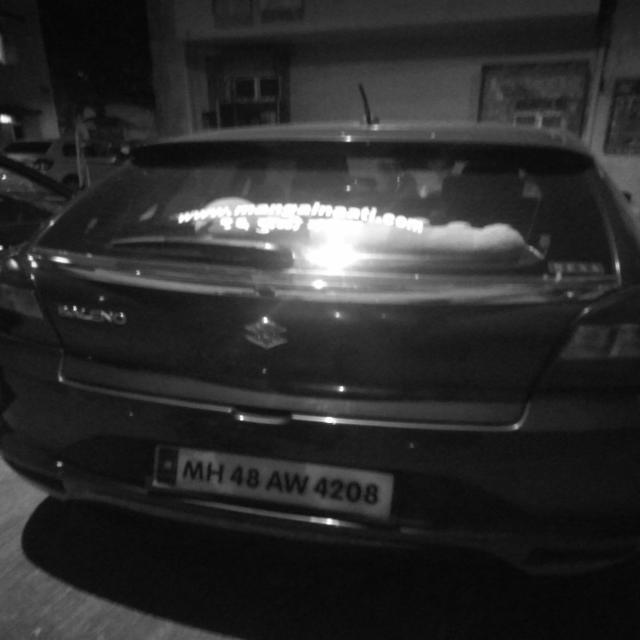car: (0, 114, 640, 583)
license-plate: (144, 443, 394, 524)
